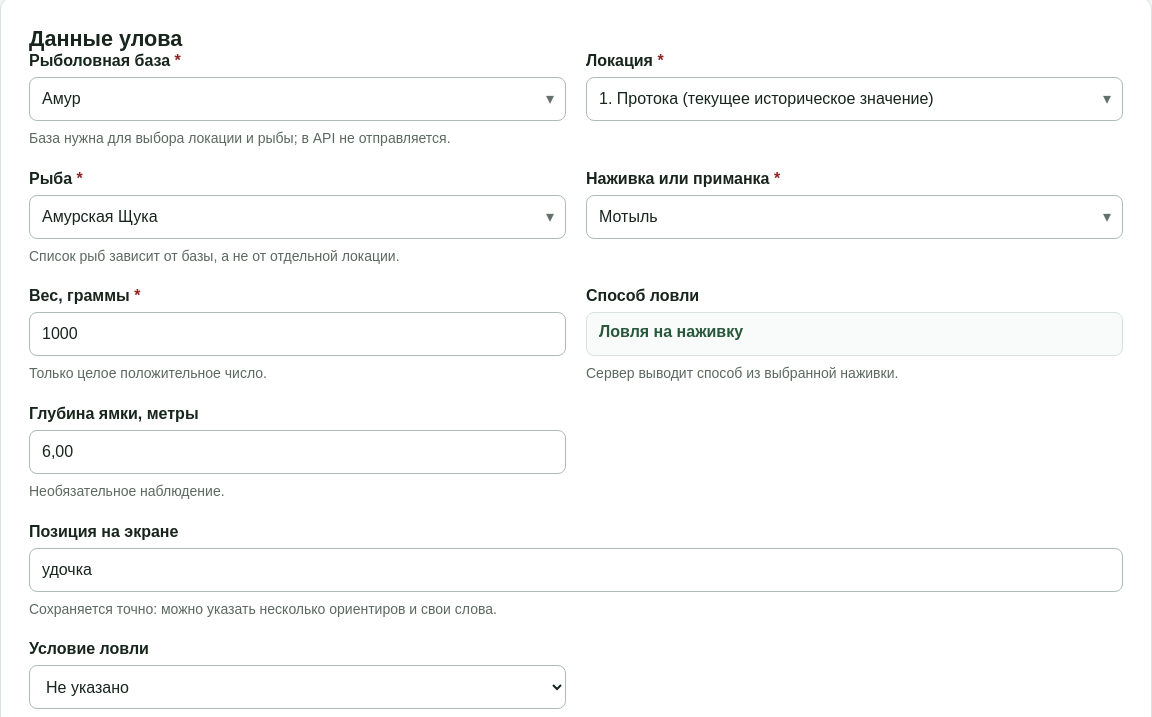
Test: CatchReportForm › requires an active Location when Fish changes from historical references
This screenshot has width=1152, height=717.
Click the dropdown labelled "Рыба *" at (298, 217), box [29,195,566,239]
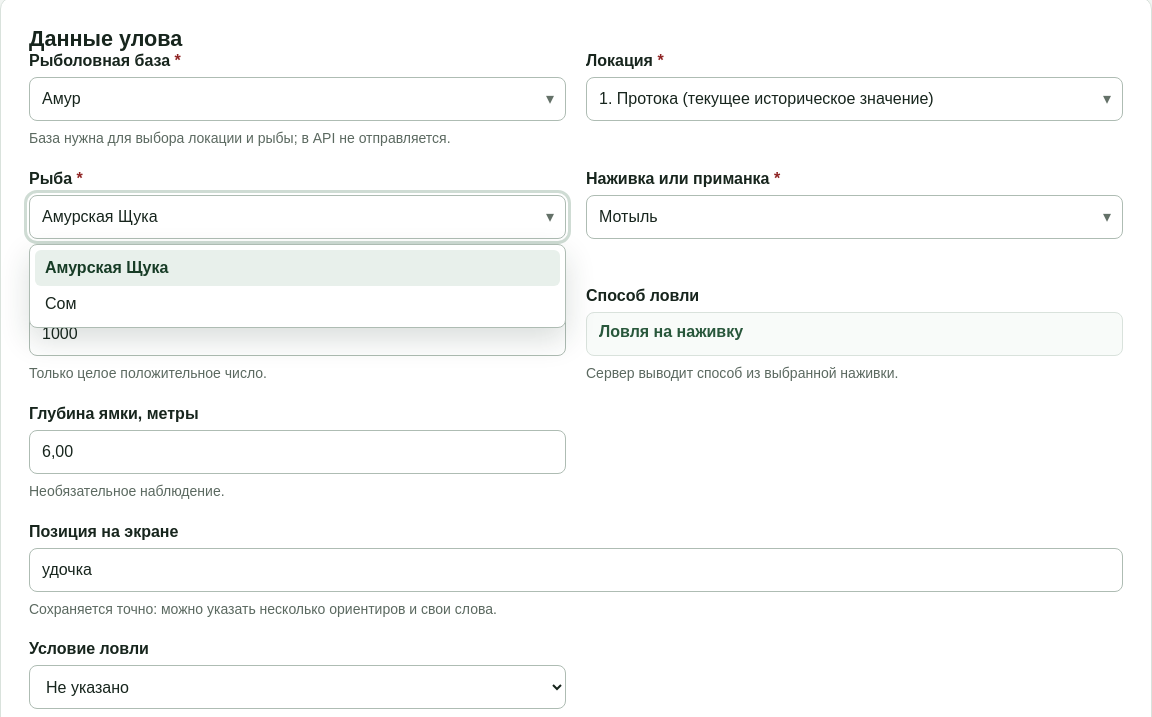
Click the option "Сом" at (61, 303), box [45,295,76,312]
(page scrolled)
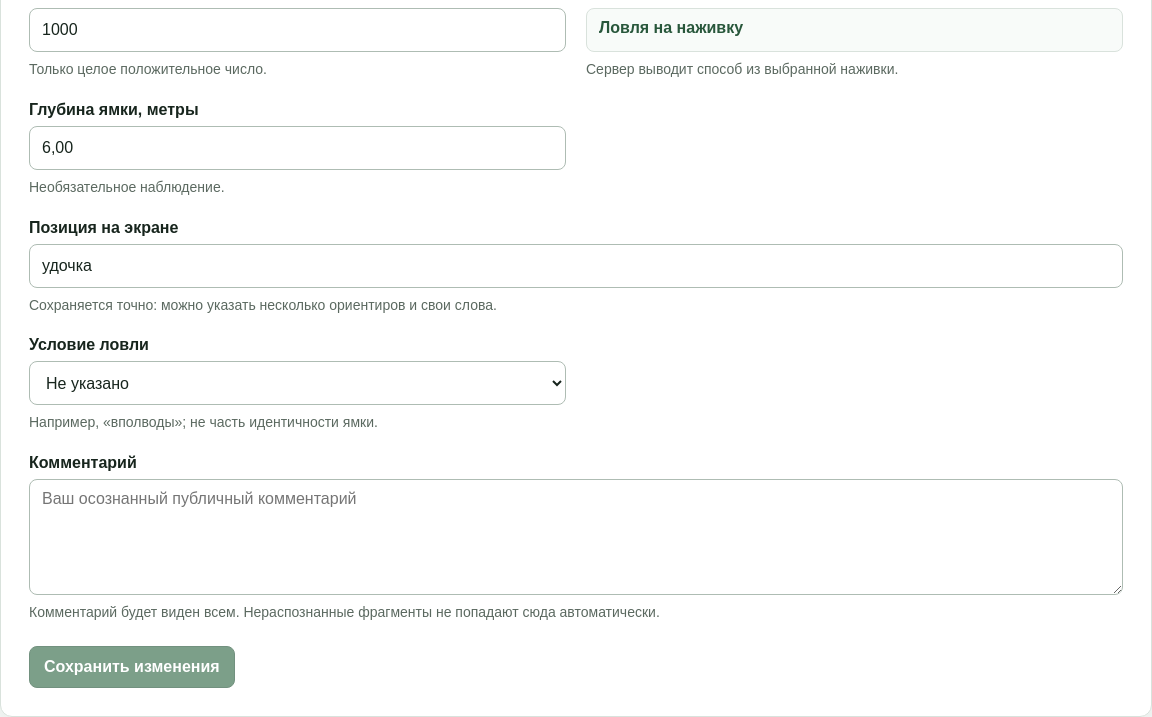
Expected: the button "Сохранить изменения" is disabled, [29,646,235,688]
